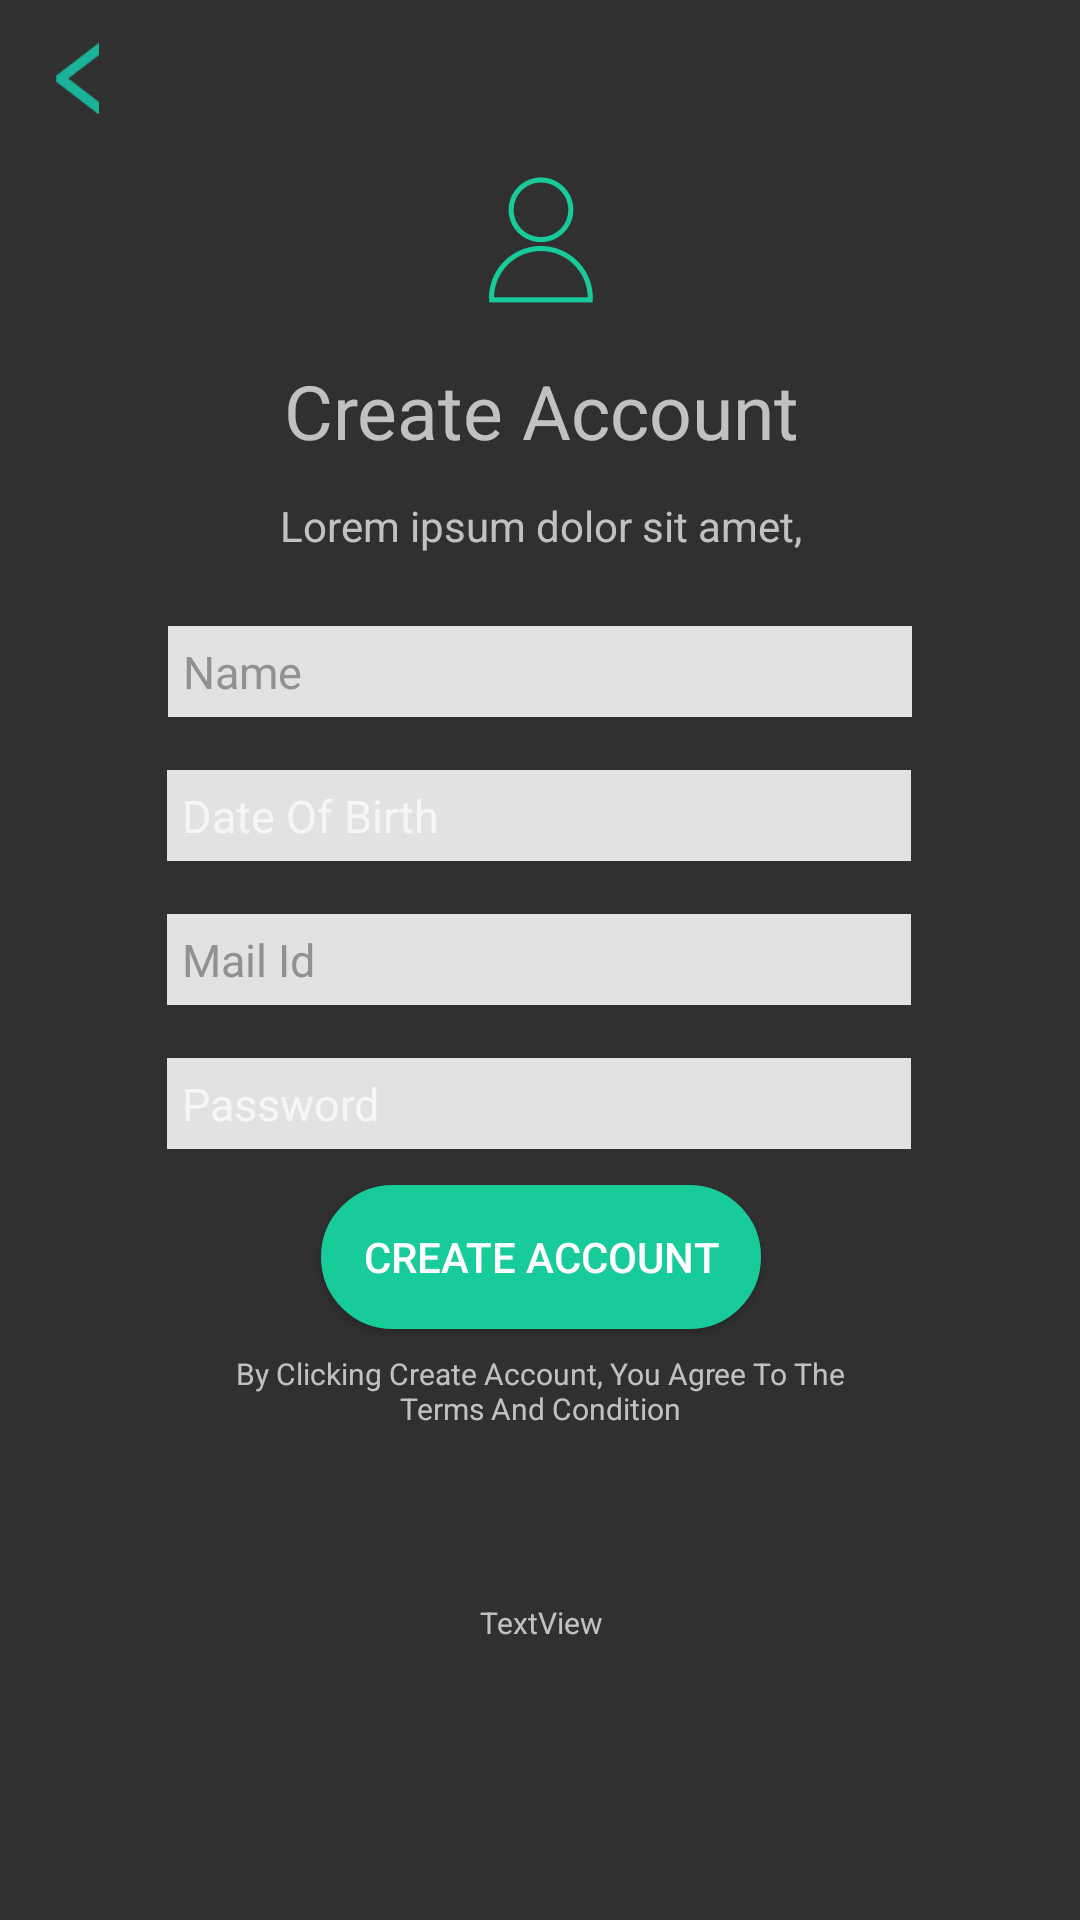

Where to tap for icons on this 1080w x 1920h app screen, as (x=x, y=y):
user: (x=541, y=240)
